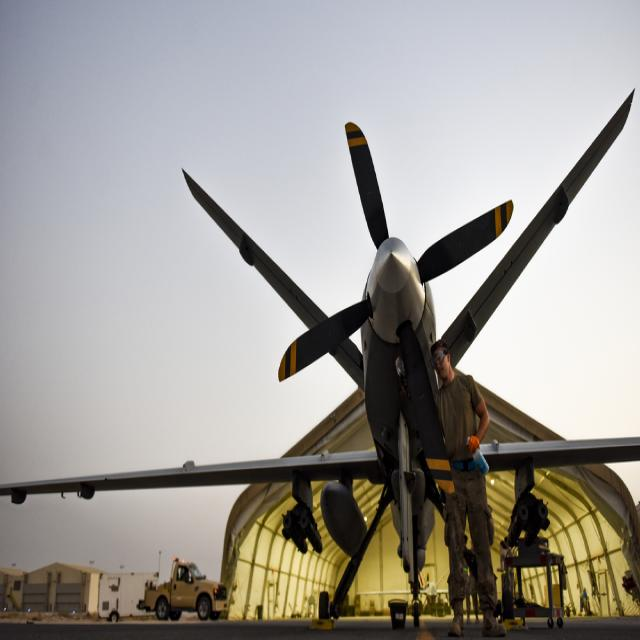MIL_Plane: (0, 86, 640, 621), (355, 563, 502, 613)
